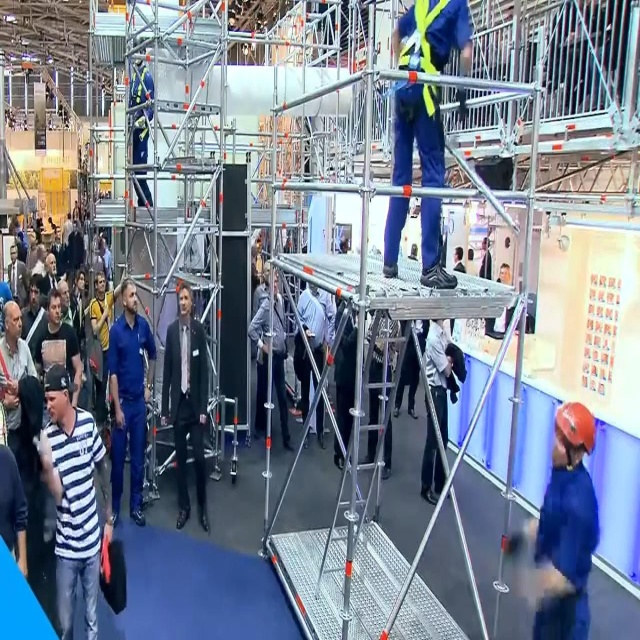Arnes_seguridad: (391, 0, 456, 132), (129, 72, 151, 138)
